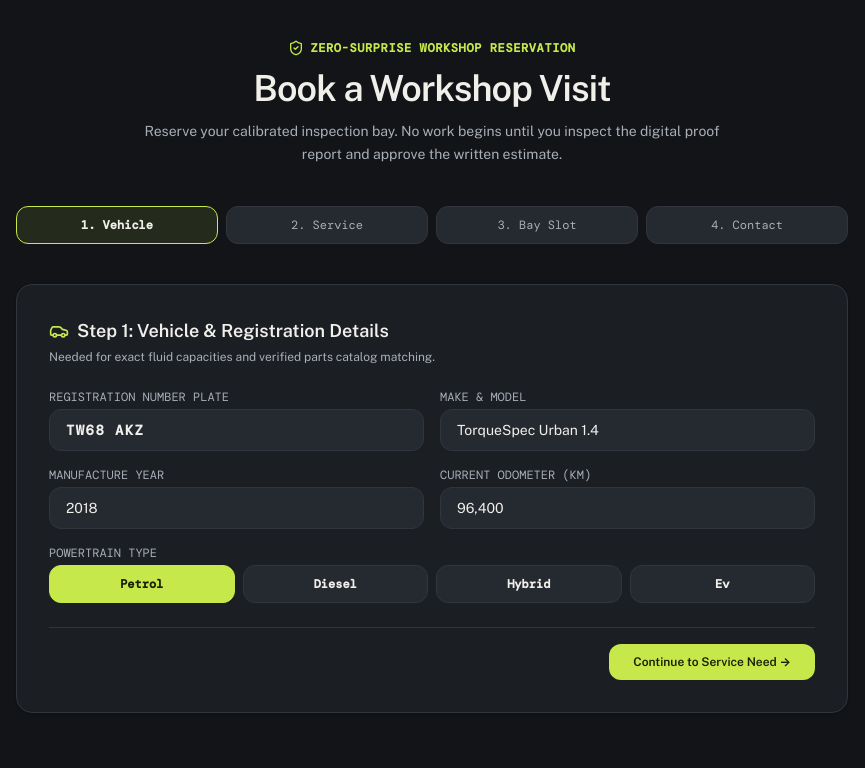
Test case: Workshop Booking Stepper Wizard (Feature 06) › navigates through 4 steps and displays verified confirmation pass with reference
Check: the heading "Book a Workshop Visit" is shown, box [253,67,611,109]
Check: the heading "Step 1: Vehicle & Registration Details" is shown, box [49,320,389,340]
// Advance to Step 2
Click the button "Continue to Service Need →".
click(712, 662)  # box [609,644,815,680]
(page scrolled)
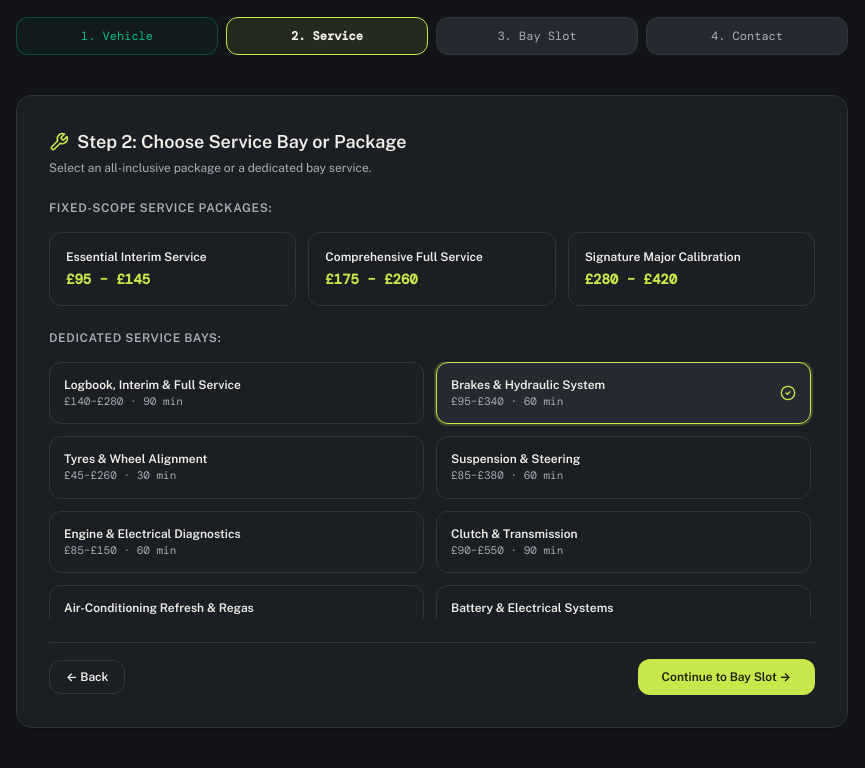
Check: the heading "Step 2: Choose Service Bay or Package" is shown, box [49,130,407,152]
// Advance to Step 3
Click the button "Continue to Bay Slot →".
click(726, 676)  # box [638,658,815,694]
(page scrolled)
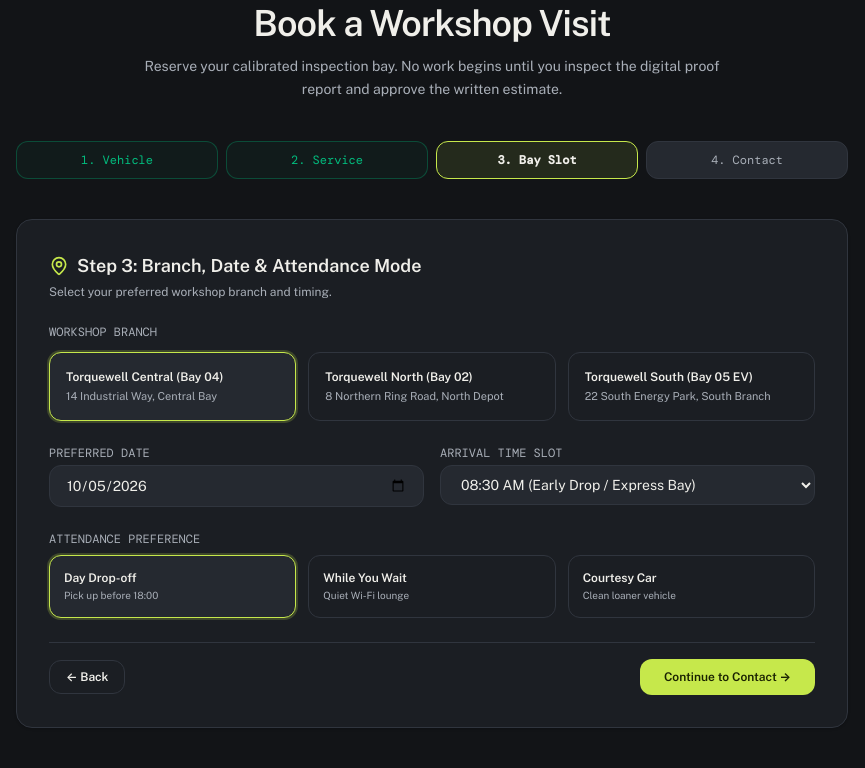
Check: the heading "Step 3: Branch, Date & Attendance Mode" is shown, box [49,254,422,276]
// Advance to Step 4
Click the button "Continue to Contact →".
click(727, 677)  # box [640,659,815,695]
(page scrolled)
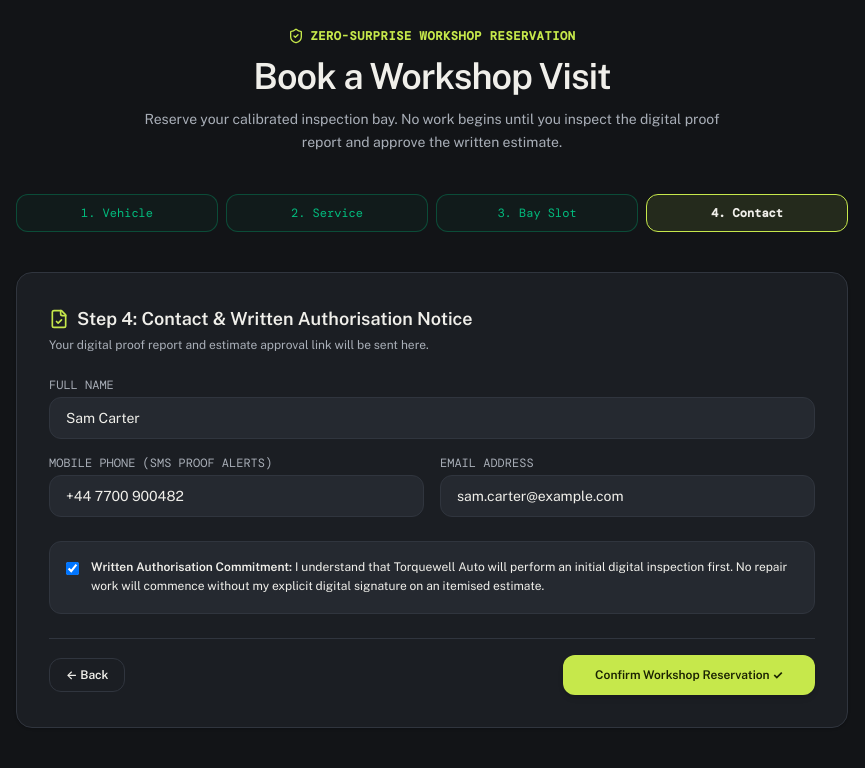
Check: the heading "Step 4: Contact & Written Authorisation Notice" is shown, box [49,308,473,328]
// Submit booking on Step 4
Click the button "Confirm Workshop Reservation ✓".
click(689, 674)  # box [563,654,815,694]
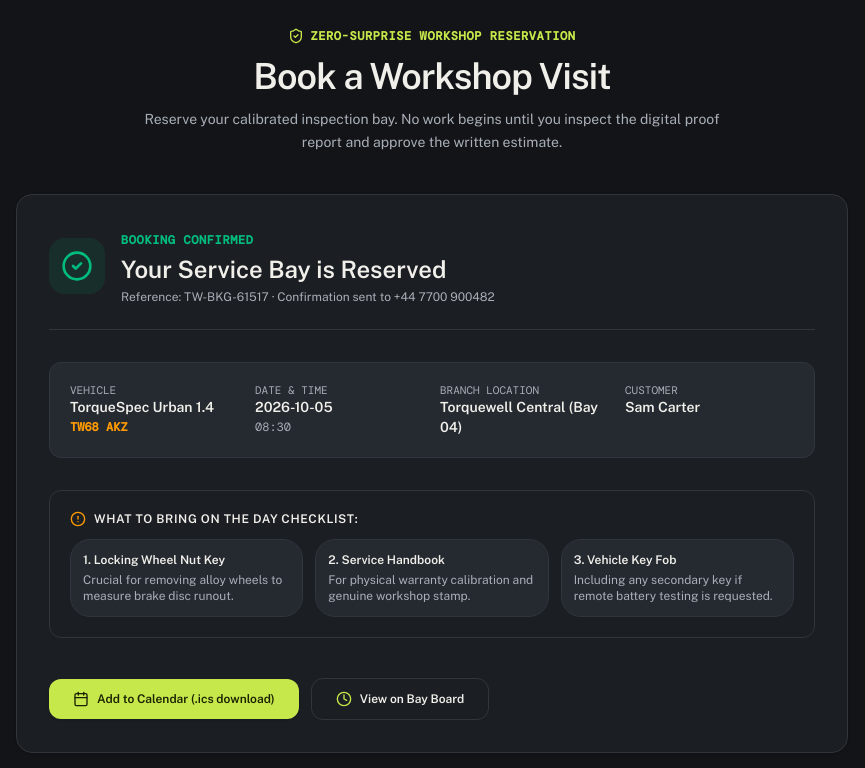
Check: the text "Booking Confirmed" is shown, box [121,232,254,248]
Check: the heading "Your Service Bay is Reserved" is shown, box [121,252,495,284]
Check: the heading "What to Bring on the Day Checklist:" is shown, box [70,511,358,527]
